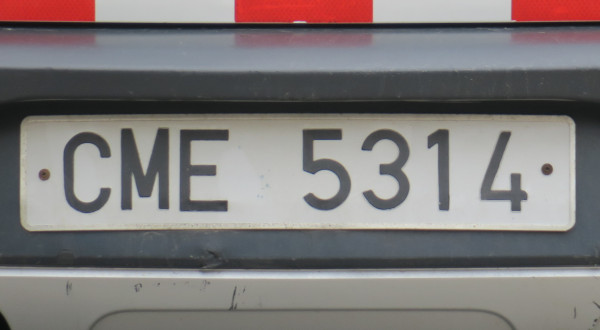license_plate: (19, 117, 575, 231)
